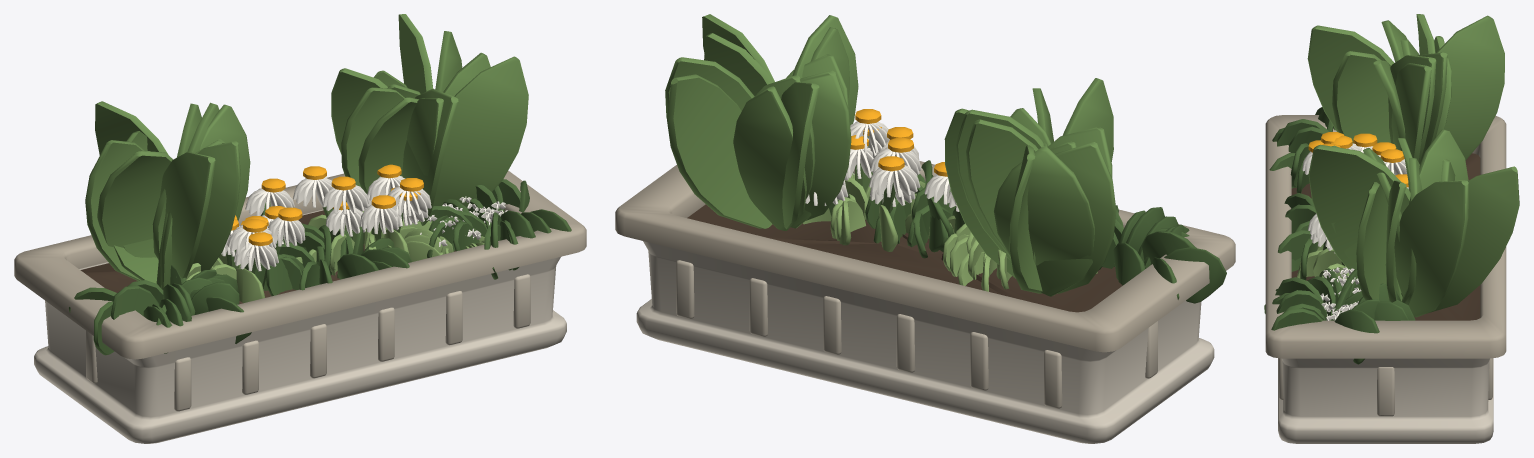
File: bac_fleuri.glb
The picture shows the model from 3 angles, left to right: view 1: azimuth 30°, elevation 25°; view 2: azimuth 150°, elevation 25°; view 3: azimuth 270°, elevation 25°; orthographic projection. The views are drawn at different scales.
Parts seen in each view (by area): view 1: MXA_Feuille_Moyen, MXA_Maconnerie, MXA_Couronnement, MXA_Feuille_Fonce, MXA_Fl_Blanc, MXA_Nervures, MXA_Feuille_Clair, MXA_Fl_Coeur, MXA_Terre, MXA_Tige; view 2: MXA_Feuille_Moyen, MXA_Maconnerie, MXA_Couronnement, MXA_Feuille_Fonce, MXA_Terre, MXA_Nervures, MXA_Feuille_Clair, MXA_Fl_Blanc, MXA_Fl_Coeur; view 3: MXA_Feuille_Moyen, MXA_Maconnerie, MXA_Couronnement, MXA_Feuille_Fonce, MXA_Fl_Blanc, MXA_Terre, MXA_Fl_Coeur, MXA_Nervures, MXA_Feuille_Clair.
Boxes of the visible parts, x1,y1,x2,y2 form: MXA_Feuille_Moyen: (85, 14, 528, 290); MXA_Maconnerie: (34, 209, 566, 443); MXA_Couronnement: (14, 170, 586, 359); MXA_Feuille_Fonce: (69, 179, 571, 355); MXA_Fl_Blanc: (221, 175, 507, 271); MXA_Nervures: (86, 274, 530, 411); MXA_Feuille_Clair: (186, 211, 491, 302); MXA_Fl_Coeur: (231, 164, 423, 246); MXA_Terre: (80, 210, 455, 304); MXA_Tige: (226, 188, 403, 290); MXA_Feuille_Moyen: (665, 14, 1116, 296); MXA_Maconnerie: (636, 241, 1214, 443); MXA_Couronnement: (615, 161, 1235, 352); MXA_Feuille_Fonce: (853, 160, 1226, 303); MXA_Terre: (687, 204, 1122, 312); MXA_Nervures: (676, 260, 1157, 408); MXA_Feuille_Clair: (803, 171, 1097, 291); MXA_Fl_Blanc: (805, 121, 959, 211); MXA_Fl_Coeur: (850, 109, 947, 176); MXA_Feuille_Moyen: (1307, 14, 1519, 317); MXA_Maconnerie: (1278, 358, 1493, 443); MXA_Couronnement: (1265, 115, 1506, 358); MXA_Feuille_Fonce: (1264, 107, 1415, 364); MXA_Fl_Blanc: (1302, 143, 1408, 320); MXA_Terre: (1291, 153, 1480, 320); MXA_Fl_Coeur: (1308, 132, 1408, 187); MXA_Nervures: (1279, 358, 1492, 416); MXA_Feuille_Clair: (1297, 241, 1349, 320).
Bounding box in the file's own units: 1.49 × 0.7729 × 0.7005.
